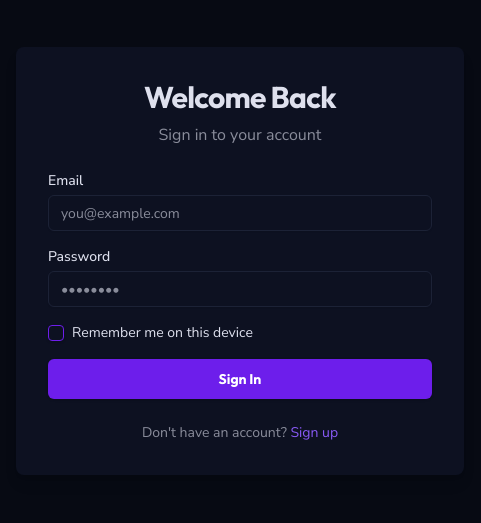
Test: LoginPage › displays error message on login failure
Type "test@test.com" into the field labelled "Email". click: (240, 213)
box: [48,195,432,231]
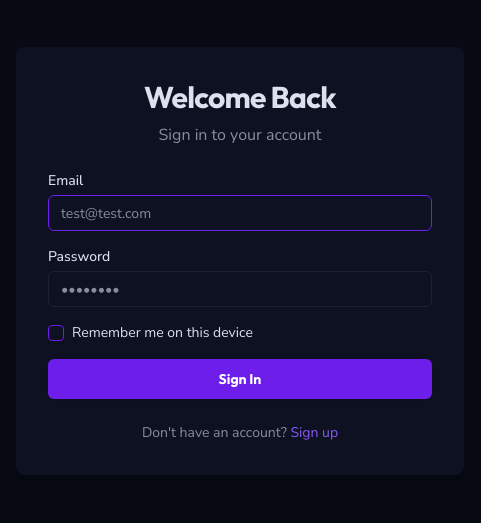
Type "wrongpassword1" into the password field labelled "Password". click: (240, 289)
box: [48,271,432,307]
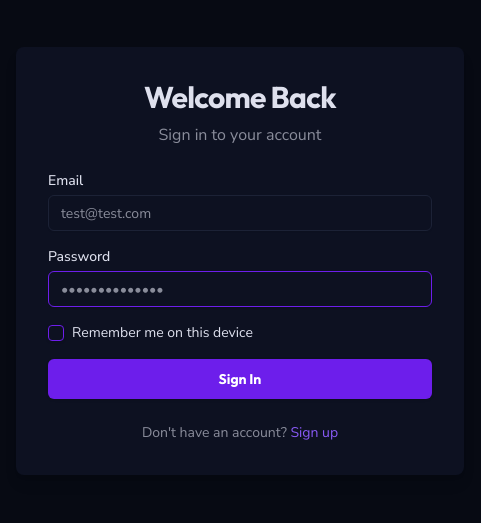
Click the button "Sign In". click: (240, 379)
box: [48,359,432,399]
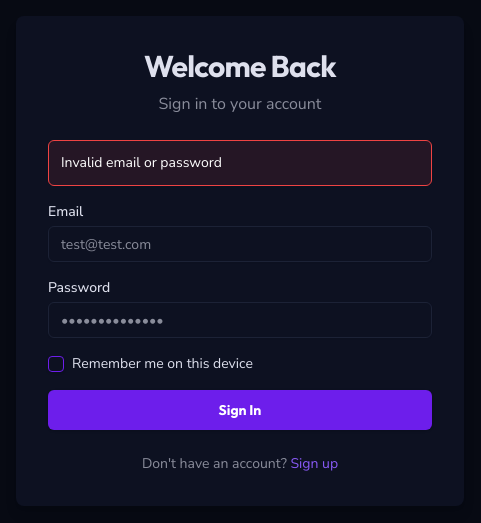
Expected: the text "Invalid email or password" is shown, [48,140,432,186]
